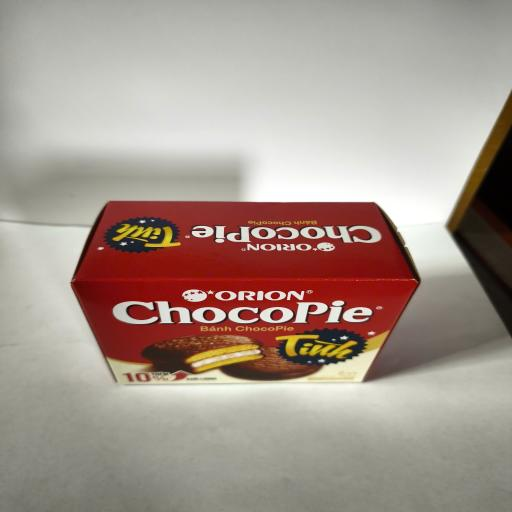chocopie: (70, 201, 421, 385)
